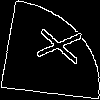X: (25, 24, 82, 65)
